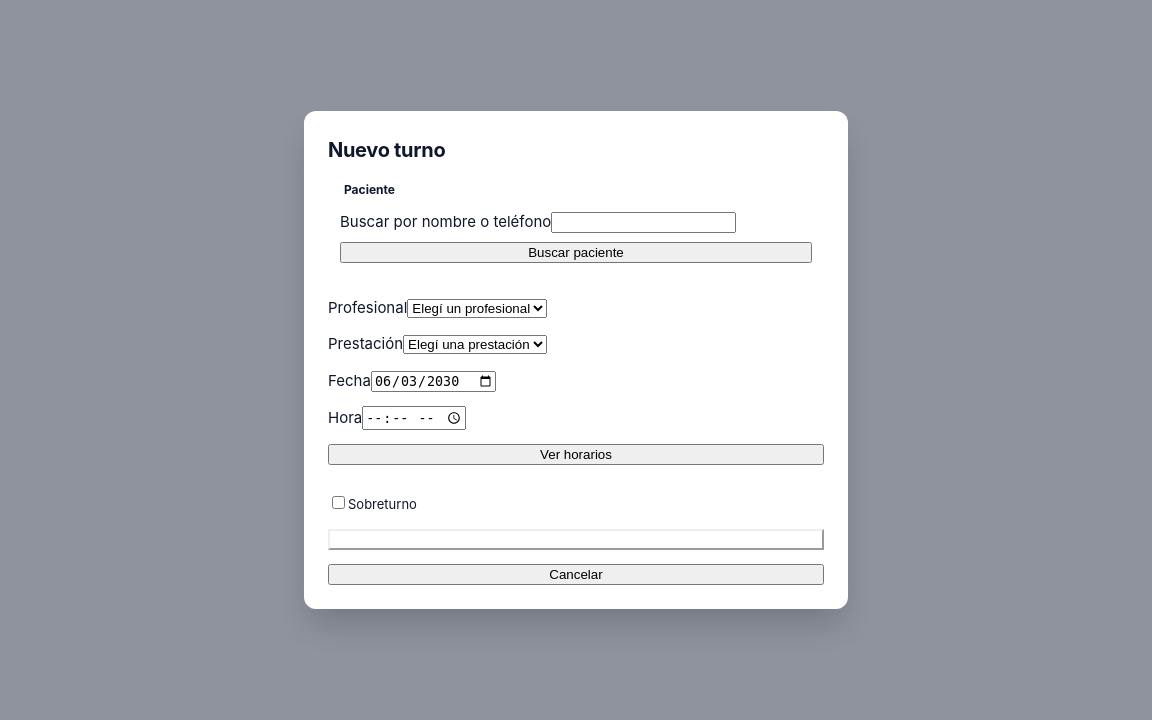
Test: alta interna de turno › muestra el código RN-TU-01 cuando el backend rechaza por solape
Type "Paciente" into the search field labelled "Buscar por nombre o teléfono" at (644, 223), box [551,212,736,233]
Click the button "Buscar paciente" at (576, 252), box [340,242,812,263]
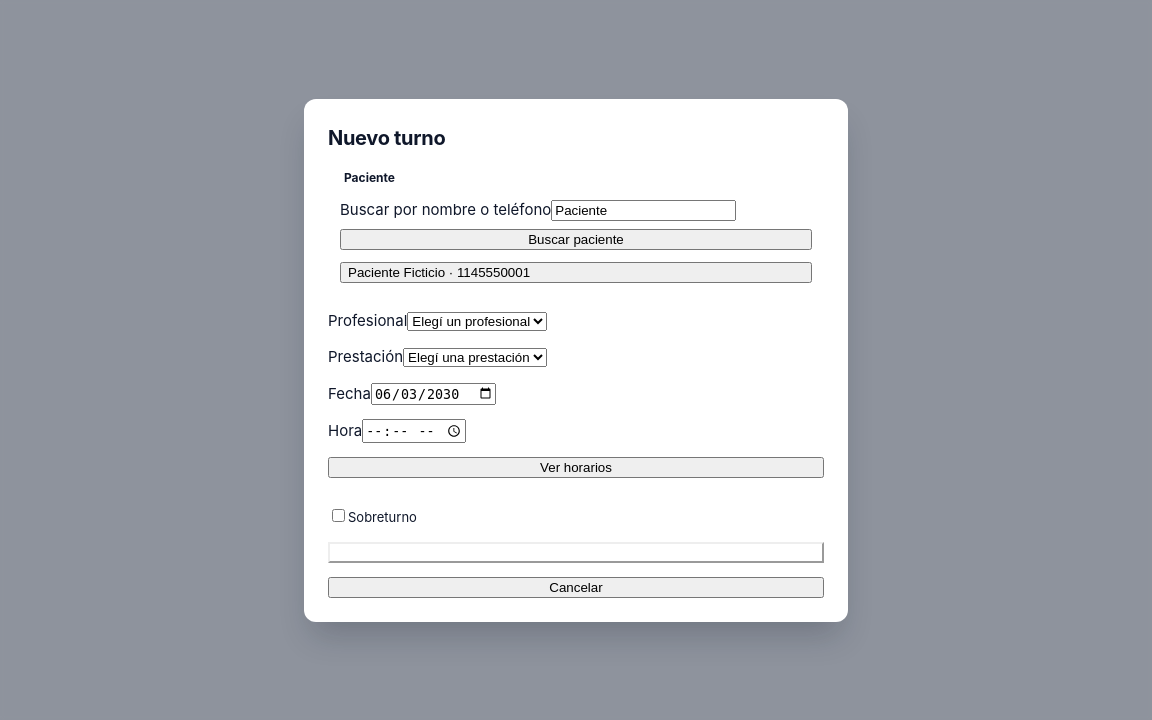
Click the button "Paciente Ficticio · 1145550001" at (397, 272), box [340,262,812,283]
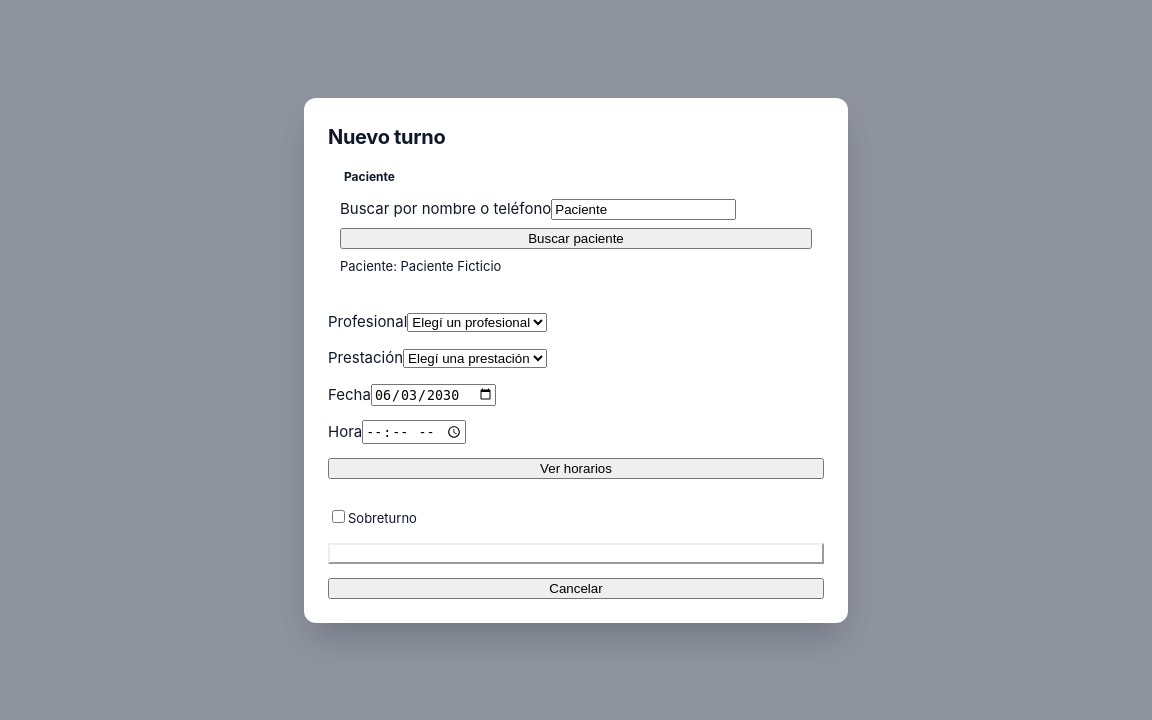
Select "Dra. Martina" in the dropdown labelled "Profesional" at (477, 322), box [407,312,547,332]
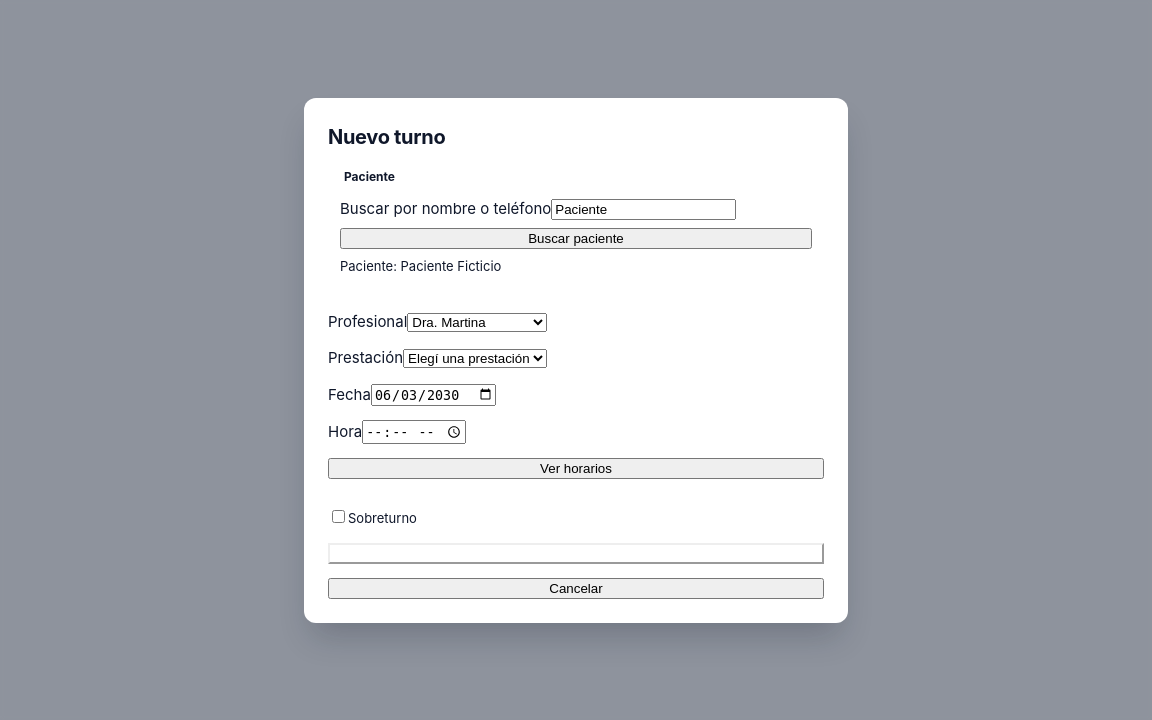
Select "Consulta (30 min)" in the dropdown labelled "Prestación" at (475, 358), box [403,349,547,368]
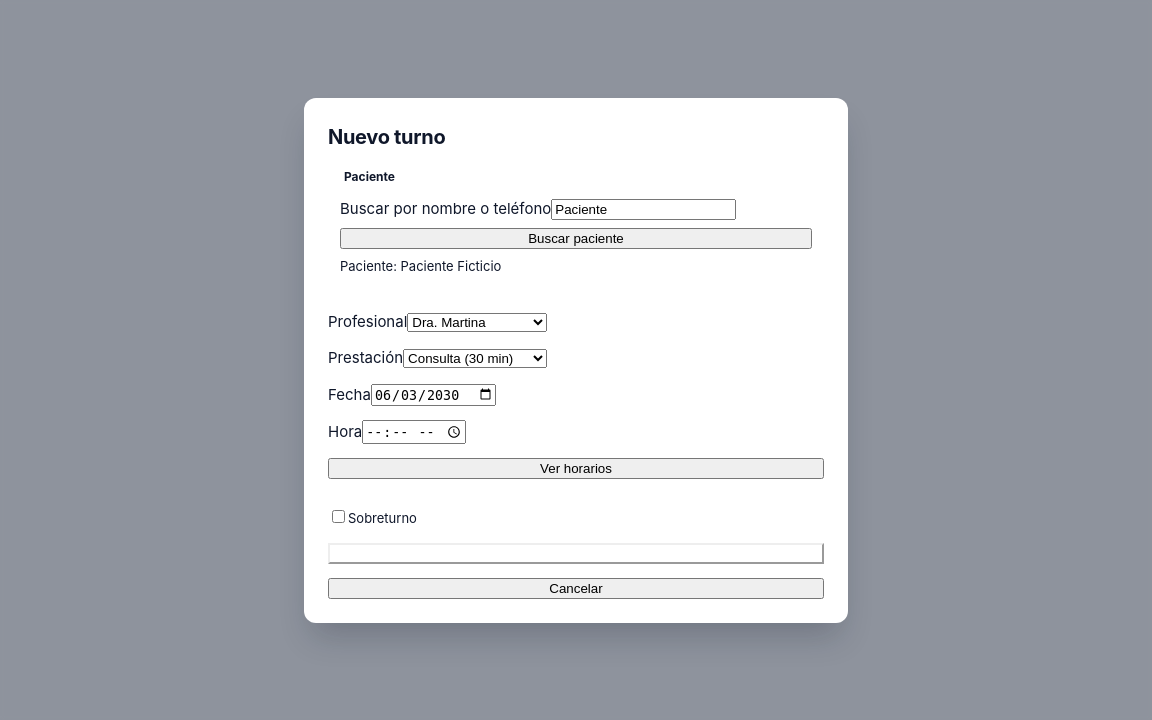
Type "10:30" into the time field labelled "Hora" at (414, 432), box [362,420,466,444]
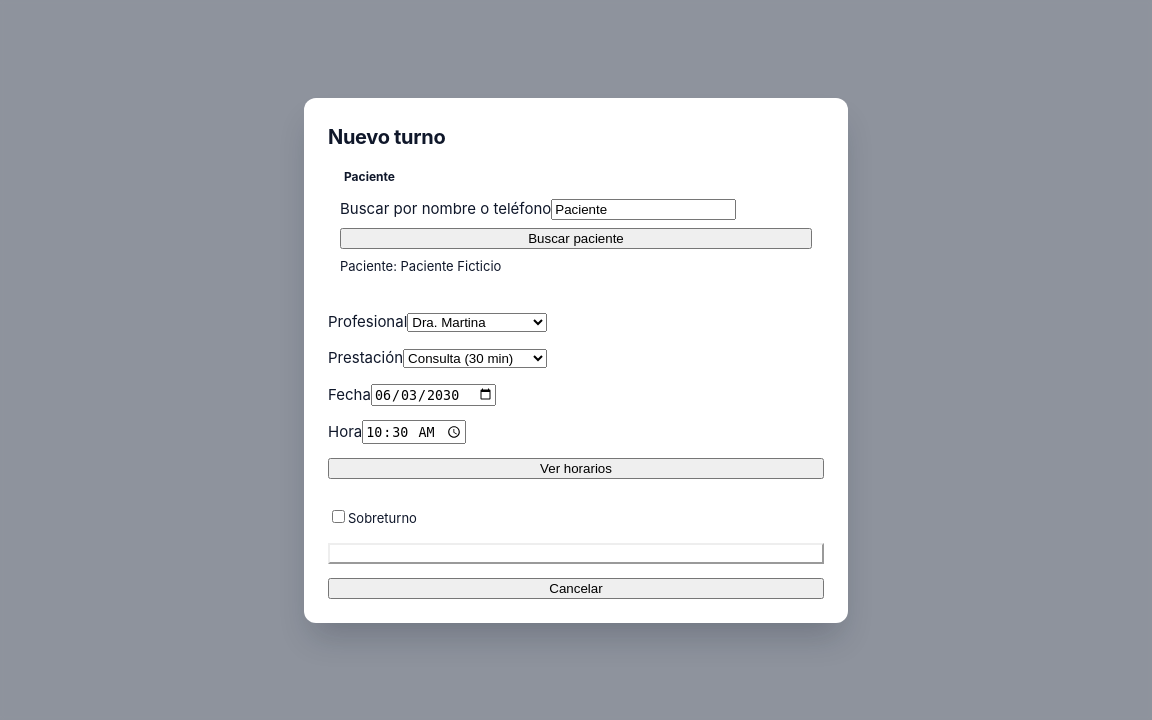
Click the button "Crear turno" at (576, 553), box [328,542,824,564]
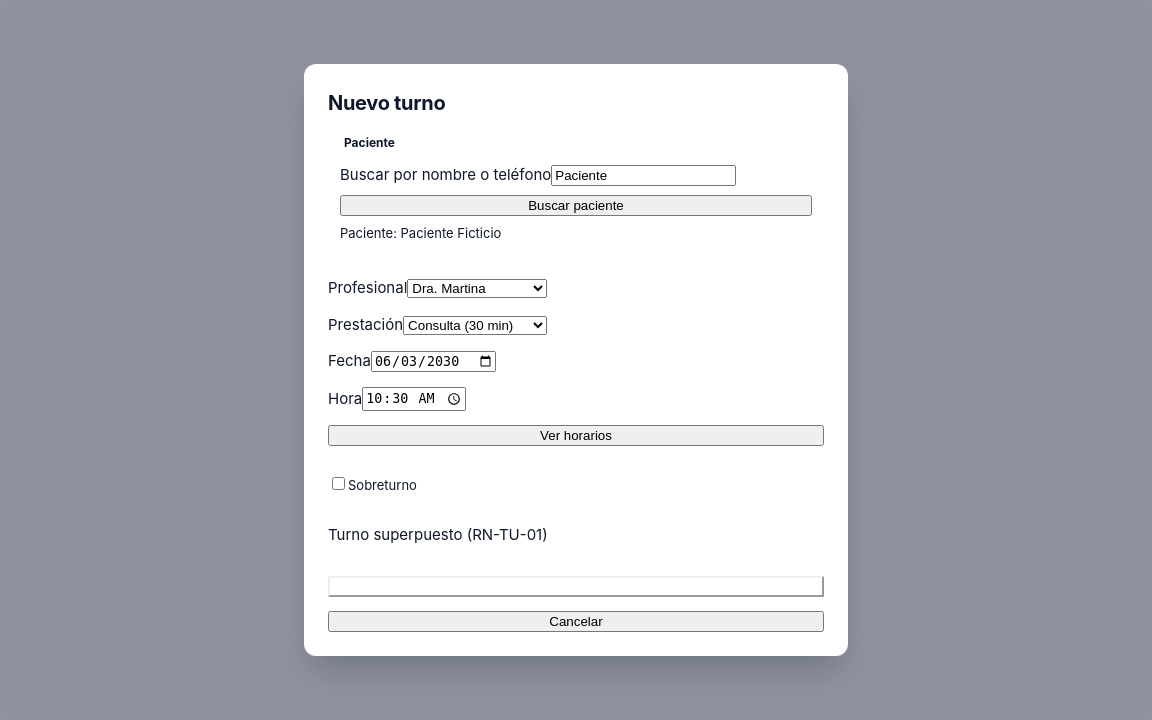
Expected: the message "Turno superpuesto (RN-TU-01)" is shown, [328,525,548,544]
